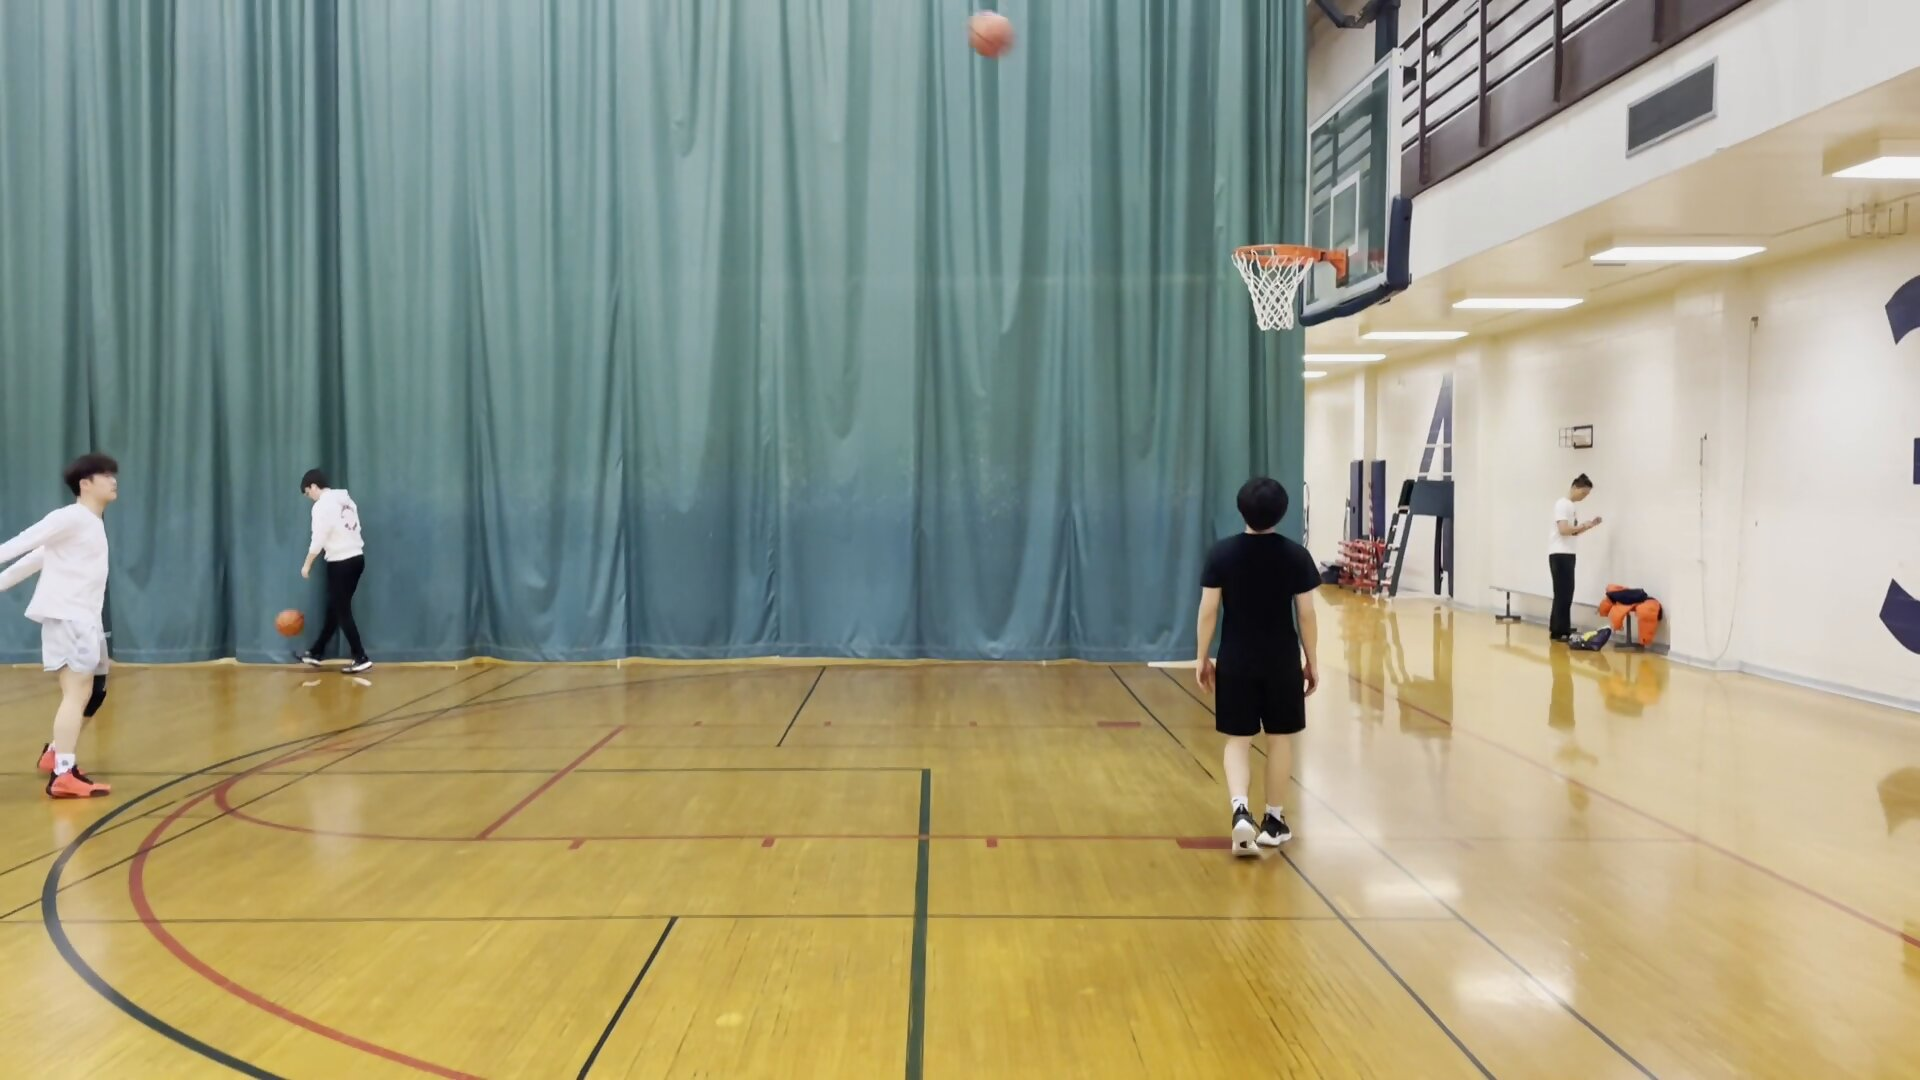ball: (962, 7, 1021, 62), (273, 607, 307, 639)
net: (1241, 300, 1306, 335)
player: (1192, 473, 1344, 865), (1, 446, 138, 802), (295, 470, 377, 679), (1541, 474, 1605, 646)
rim: (1224, 240, 1326, 270)
